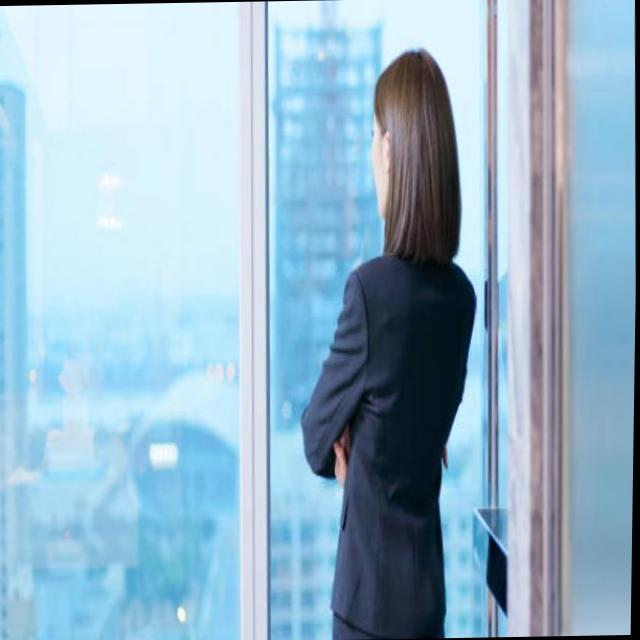no helmet: (355, 36, 480, 281)
